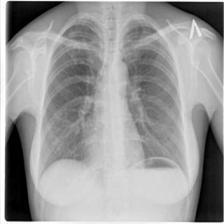tuberculosis: (31, 14, 198, 190)
